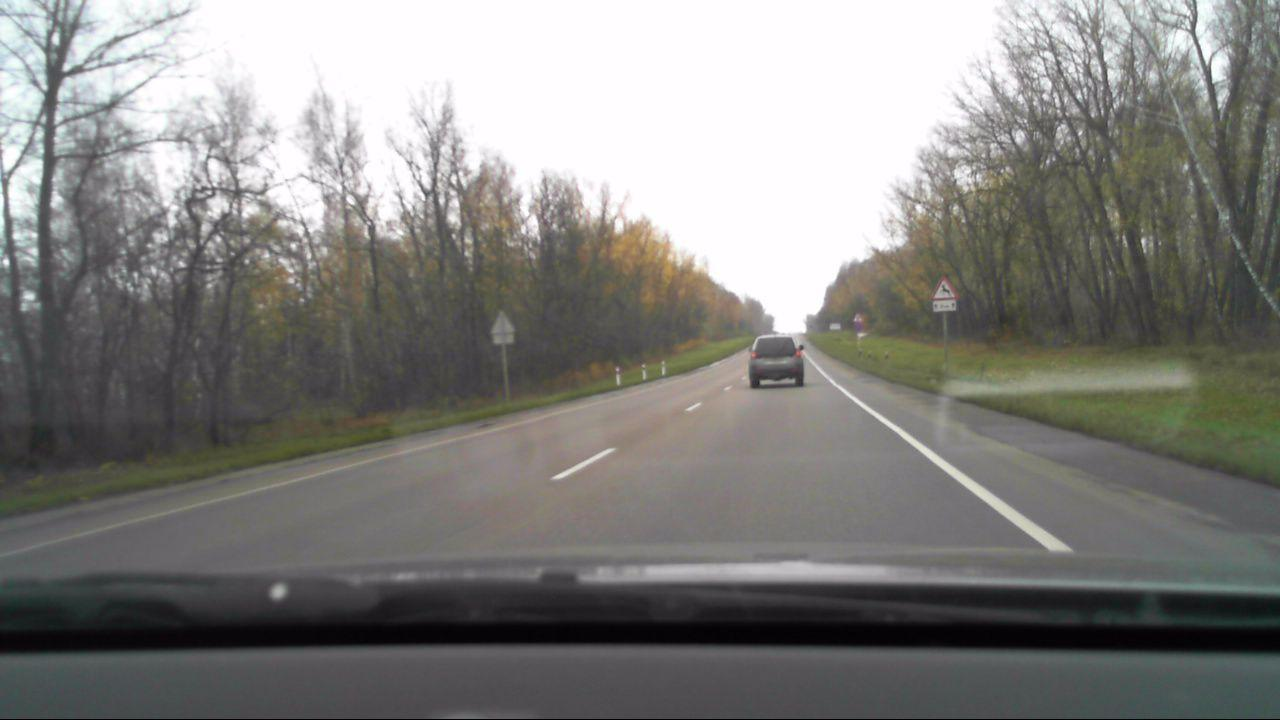1_27: (929, 279, 954, 299)
3_27: (854, 323, 863, 332)
8_2_1: (932, 300, 957, 312)
